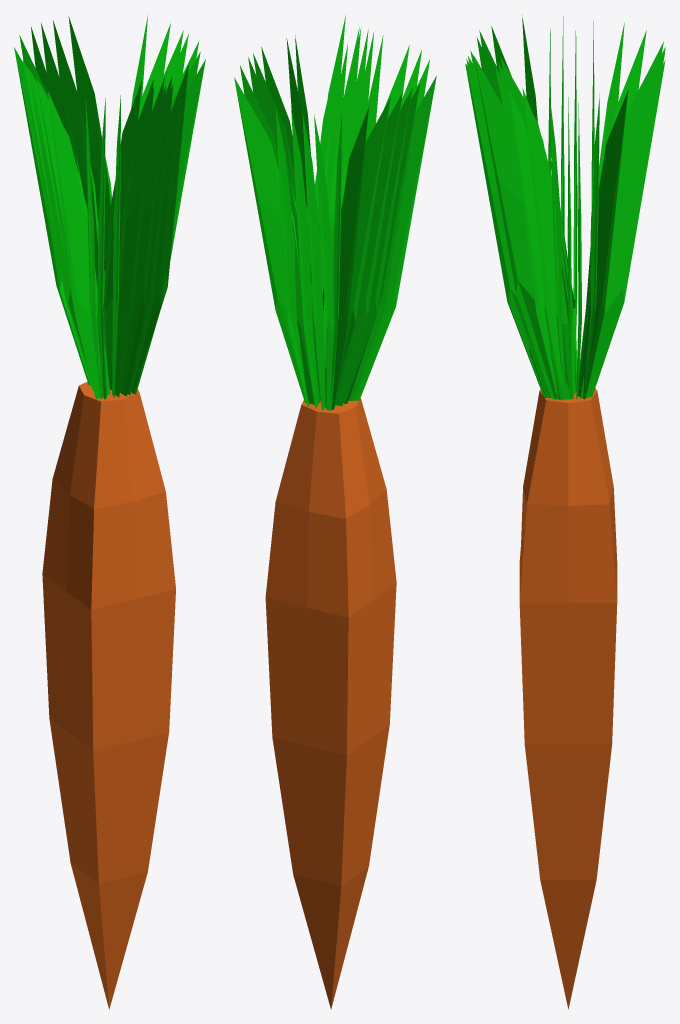
File: Ps1_Carrot1.fbx
3 renders of one model, left to right at view 1: azimuth 30°, elevation 25°; view 2: azimuth 150°, elevation 25°; view 3: azimuth 270°, elevation 25°, orthographic. The views are drawn at different scales.
Visible parts, largest first — view 1: Carrot, Cube.016; view 2: Carrot, Cube.016; view 3: Carrot, Cube.016.
Boxes of the visible parts, x1,y1,x2,y2 form: Carrot: (42,381,175,1009); Cube.016: (14,15,205,399); Carrot: (265,398,396,1009); Cube.016: (234,15,436,410); Carrot: (519,388,617,1009); Cube.016: (465,15,665,400).
Size of the model in its own units: 180 by 1011 by 190.
